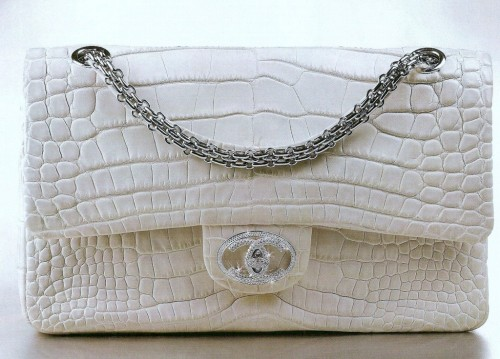cartera: (6, 2, 497, 339)
cuero: (19, 44, 498, 336)
